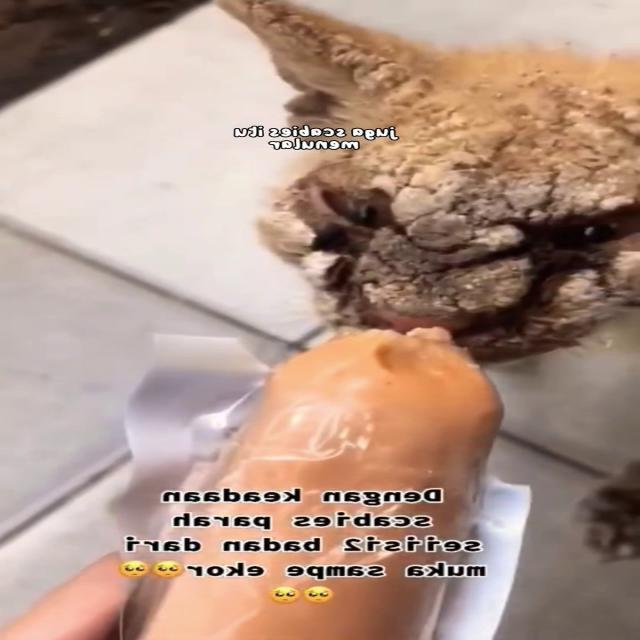ghe: (319, 160, 640, 338)
